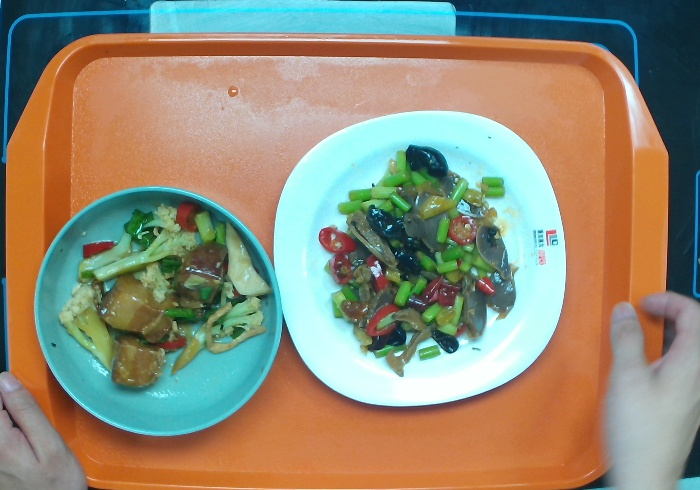ZNLD-Qing_Hua_Yuan_Wan: (29, 179, 293, 442)
ZNLD-Yuan_Jiao_Pan: (259, 104, 575, 420)
